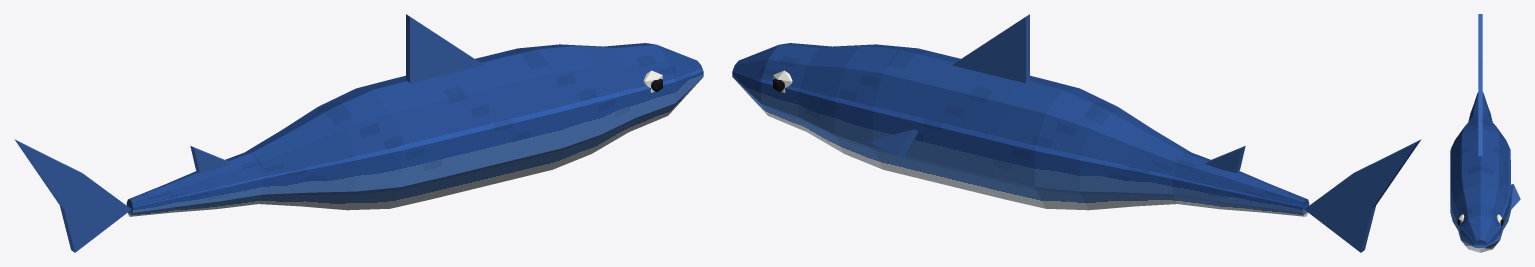
The model's file is blue_shark.glb.
The picture shows the model from 3 angles, left to right: view 1: azimuth 30°, elevation 25°; view 2: azimuth 150°, elevation 25°; view 3: azimuth 270°, elevation 25°; orthographic projection. The views are drawn at different scales.
Visible parts, largest first — view 1: fish_blue_shark; view 2: fish_blue_shark; view 3: fish_blue_shark.
Boxes of the visible parts, left/top/right/bottom form: fish_blue_shark: left=14, top=14, right=703, bottom=252; fish_blue_shark: left=732, top=14, right=1421, bottom=252; fish_blue_shark: left=1450, top=14, right=1520, bottom=252.
Size of the model in its own units: 1.2 by 0.31 by 0.1993.
Materials: 4 (1 with a texture image).
